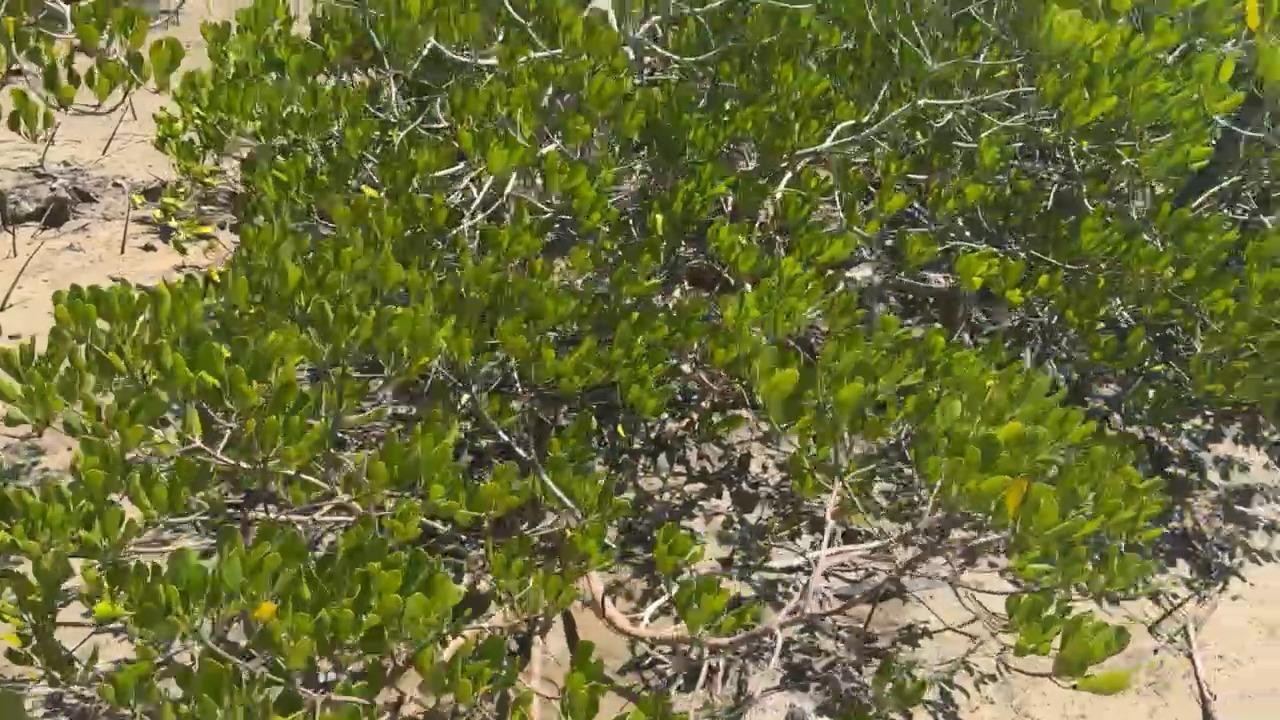Tree: (0, 240, 44, 313), (1146, 586, 1206, 632), (101, 106, 130, 157), (40, 121, 62, 168), (120, 198, 130, 256), (128, 97, 139, 121), (12, 218, 17, 257)
